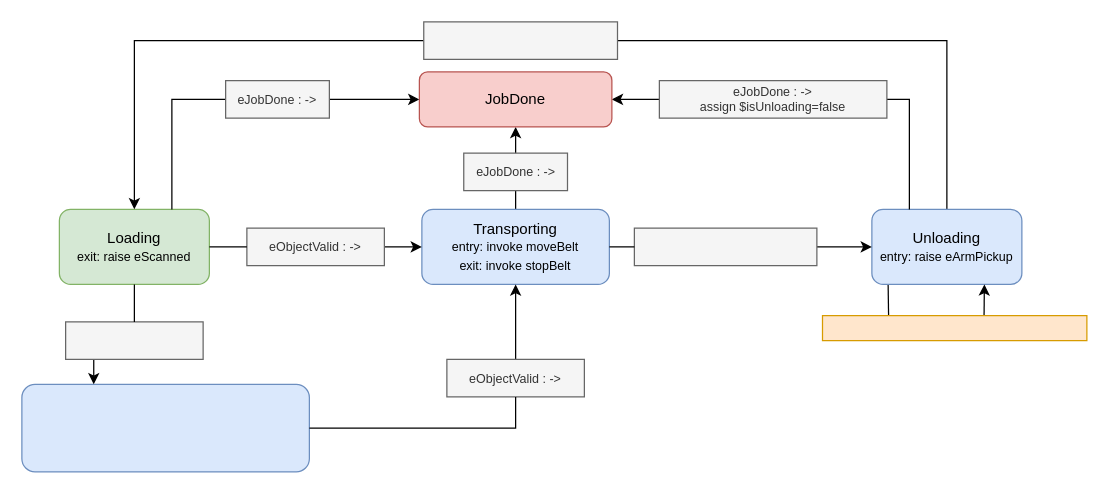
Some shapes in this 1109 by 494 pixel diagram are drawn without their labels. Each missing label, with the centre of its shape:
eObjectInvalid : ->: (x=133, y=340)
ePickedUp : -> assign $isUnloading=false: (x=520, y=40)
Error entry: raise eProcessMessage("Belt error: Invalid object detected"): (x=165, y=427)
eStartUnload : -> assign $isUnloading=true: (x=725, y=246)
timeout : -> raise eArmPickup: (x=954, y=327)
